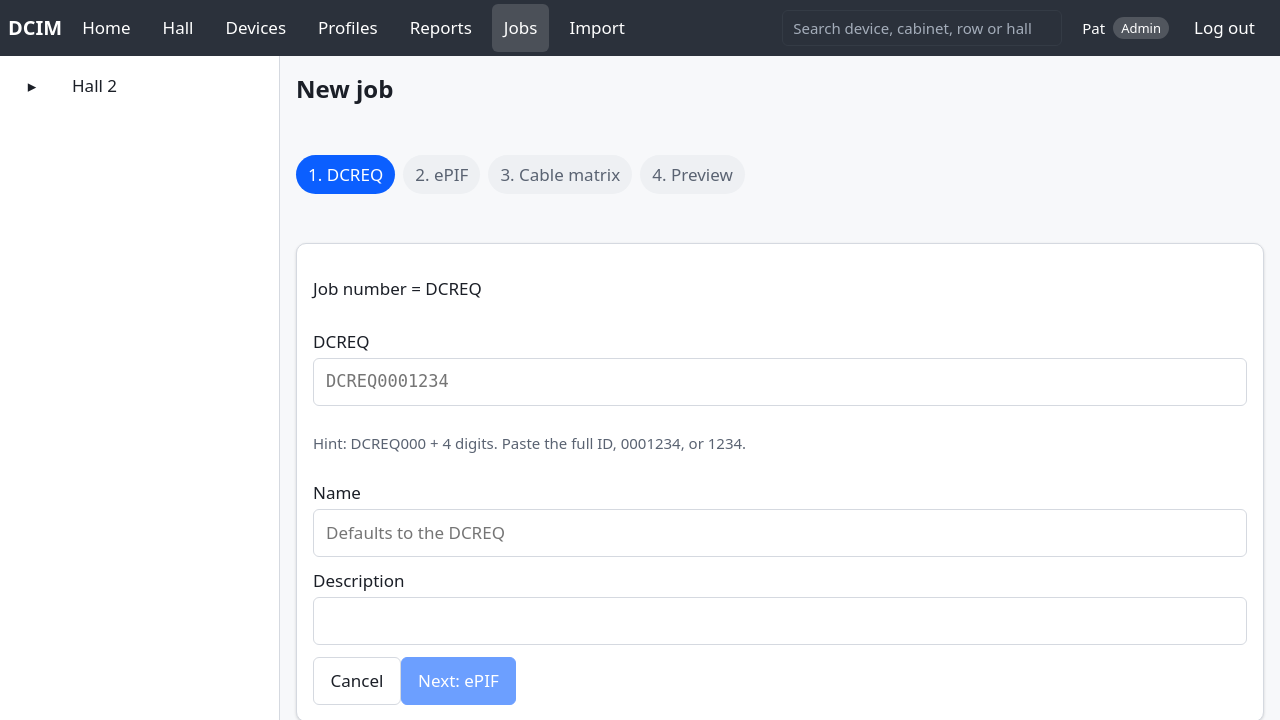
Test case: DCREQ step › hard-stops a duplicate DCREQ and lets the user start over with a different number
This screenshot has width=1280, height=720.
Expected: the heading "New job" is shown, [296,72,393,106]
Type "1234" into the field labelled "DCREQ" at coordinates (780, 382), box [313,358,1247,406]
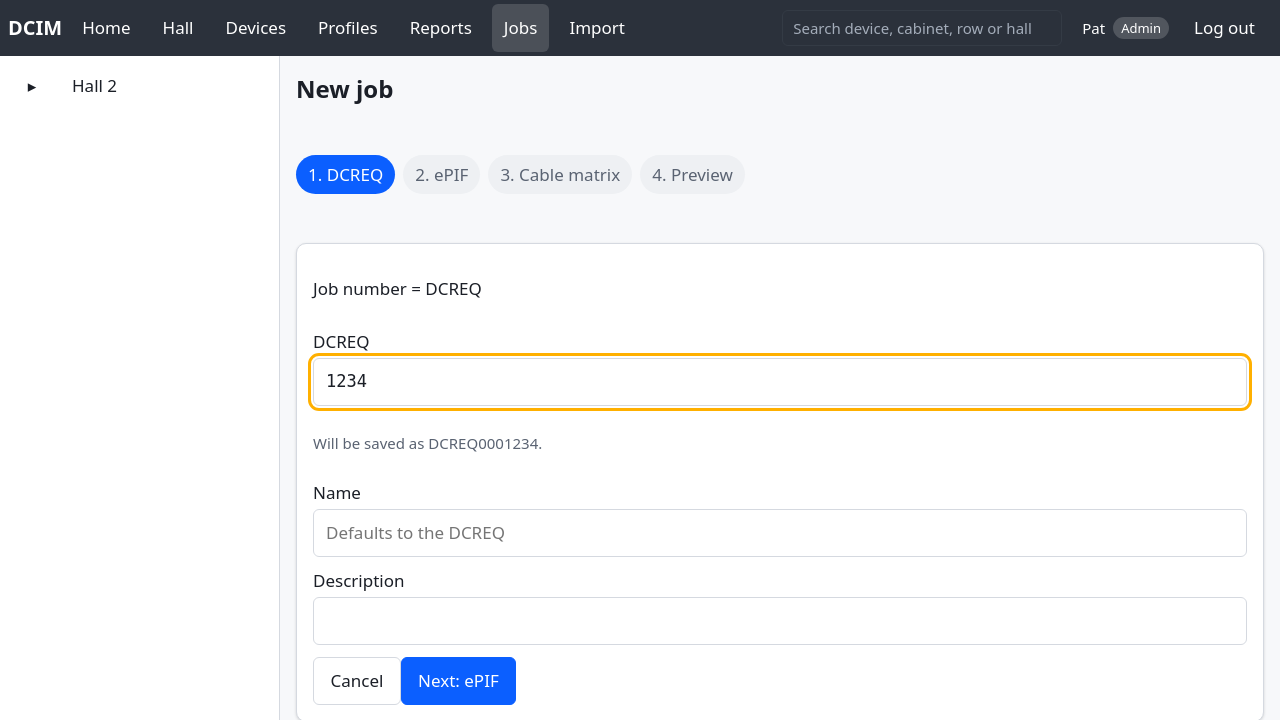
Click the button "Next: ePIF" at coordinates (458, 681), box [401,657,516,705]
(page scrolled)
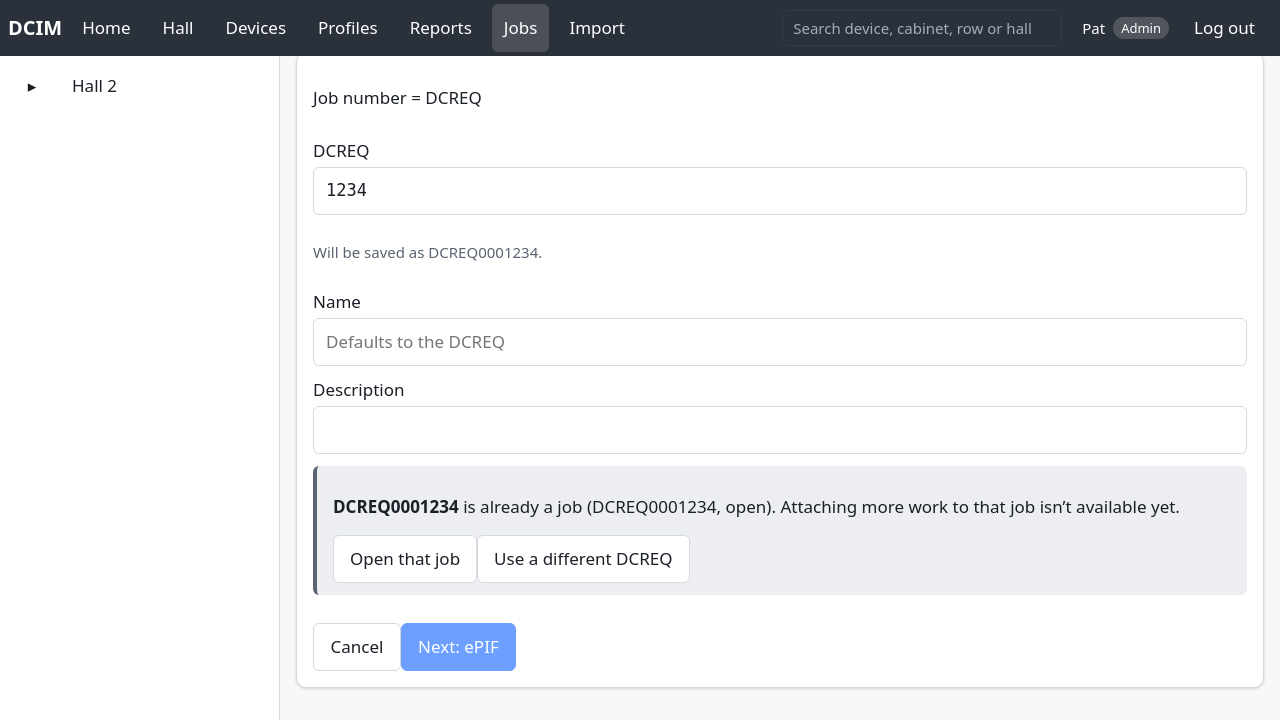
Expected: the message shows "DCREQ0001234 is already a job (DCREQ0001234, open)", [313,466,1247,595]
Expected: the message shows "Attaching more work to that job isn’t available yet.", [766,495,1180,518]
Expected: the button "Next: ePIF" is disabled, [401,623,516,671]
Click the button "Use a different DCREQ" at coordinates (583, 559), box [477,535,690,583]
(page scrolled)
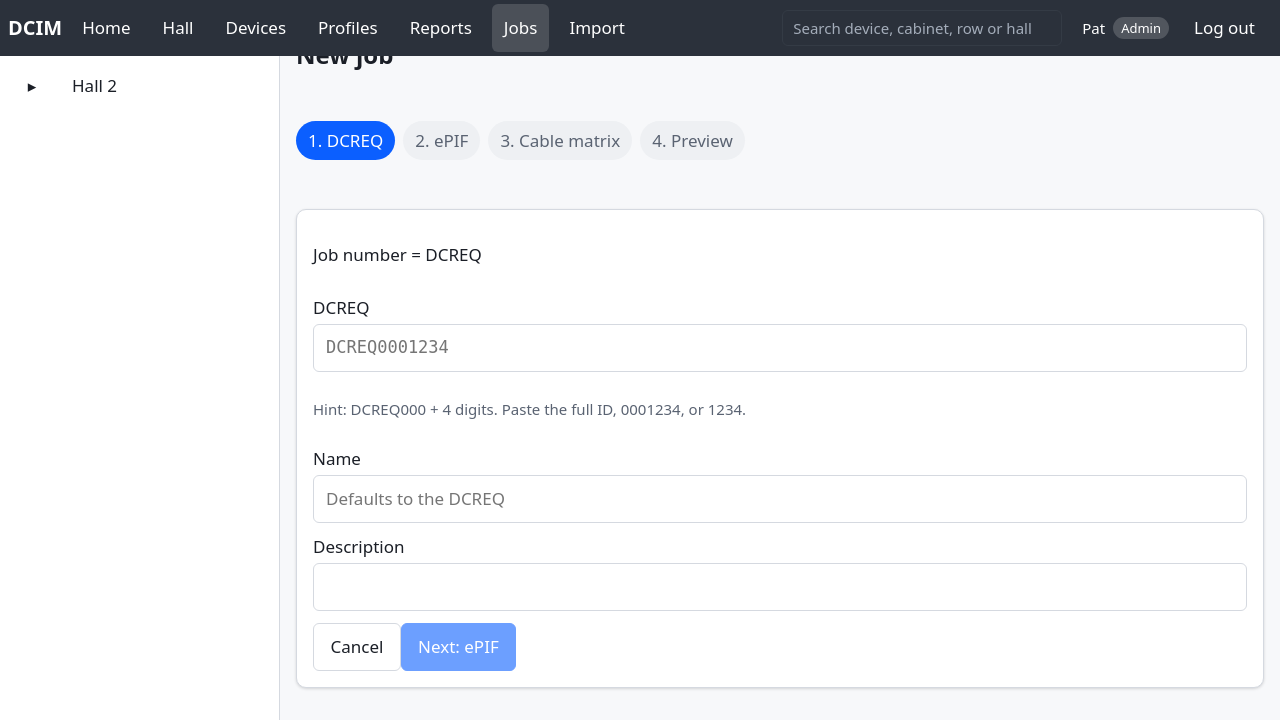
Expected: the button "Next: ePIF" is disabled, [401,623,516,671]
Expected: the text "already a job" is gone
Expected: the field labelled "DCREQ" is empty, [313,324,1247,372]
